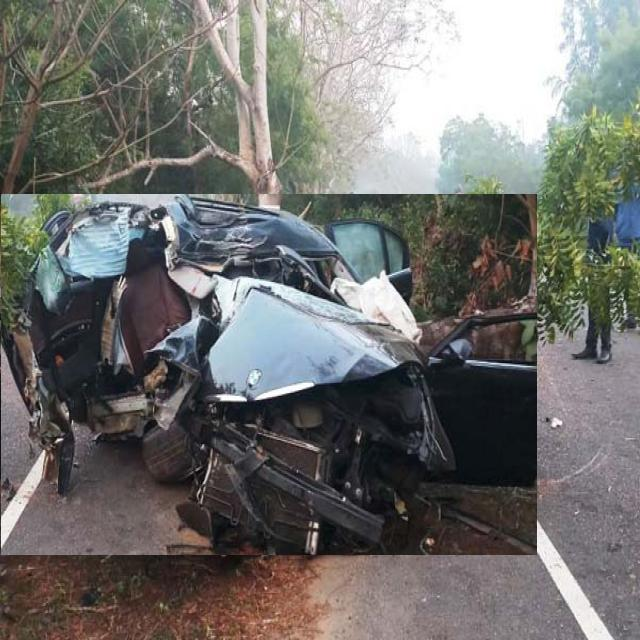accident: (1, 195, 536, 555)
